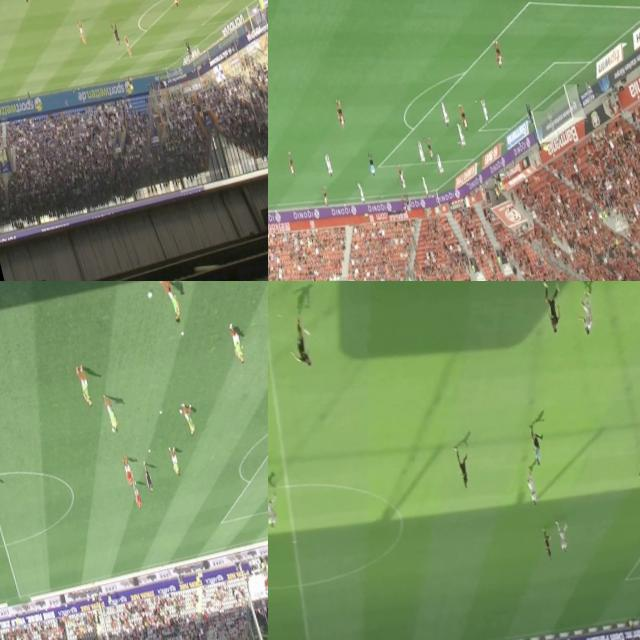ball: (144, 288, 154, 302), (176, 406, 184, 418), (302, 326, 310, 336), (110, 426, 115, 434), (403, 206, 406, 208)
player: (285, 317, 314, 370), (574, 285, 598, 338), (159, 281, 184, 330), (540, 281, 563, 334), (227, 325, 248, 367), (77, 368, 96, 411), (101, 394, 120, 435), (454, 446, 472, 488), (268, 481, 282, 529), (166, 442, 182, 482), (522, 465, 538, 505), (554, 521, 571, 556), (538, 527, 555, 562), (130, 479, 146, 514), (121, 456, 136, 490), (182, 406, 197, 436), (334, 99, 348, 130), (458, 102, 470, 134), (322, 151, 336, 178), (422, 136, 436, 162), (493, 40, 506, 68), (285, 152, 298, 179), (415, 138, 427, 166), (77, 22, 89, 49), (456, 122, 468, 148), (354, 180, 366, 204), (110, 22, 121, 48), (524, 102, 535, 128), (439, 101, 450, 124), (320, 186, 330, 211), (480, 100, 490, 122), (420, 176, 430, 197), (635, 461, 640, 502), (435, 153, 444, 175), (184, 39, 193, 60), (125, 40, 134, 58), (398, 171, 406, 191), (255, 0, 267, 13), (400, 196, 408, 214), (396, 166, 404, 184), (167, 0, 179, 8)
